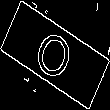O_SW: (31, 22, 79, 88)
